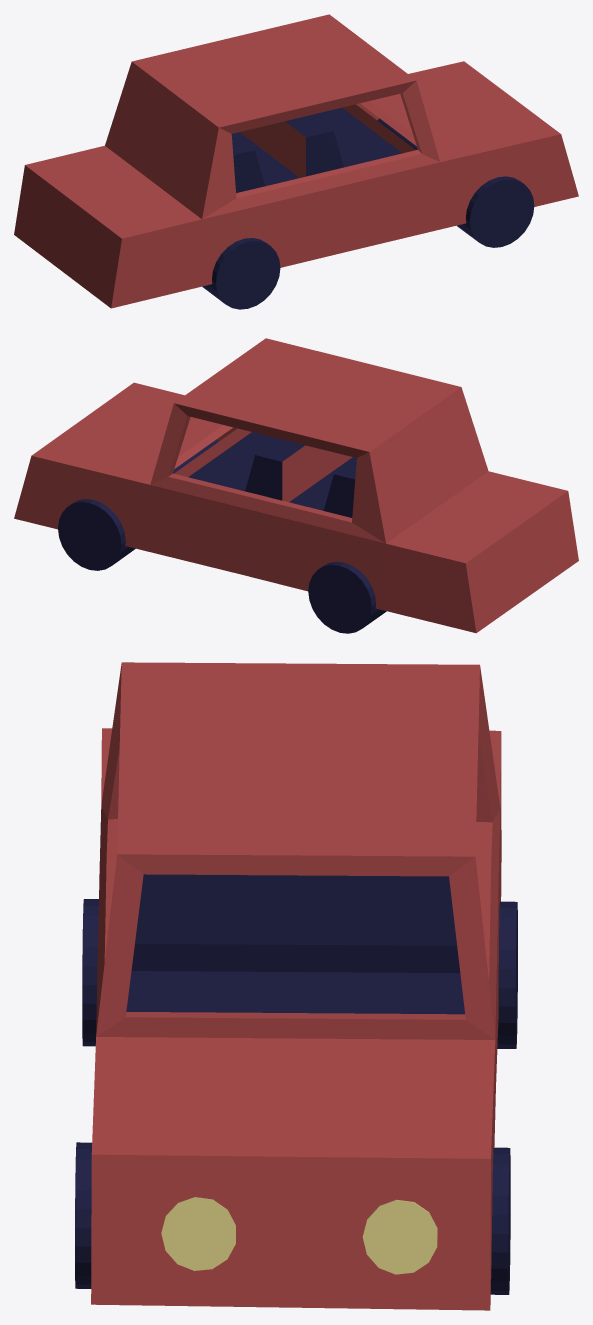
Rendered from red_car.fbx.
3 views of the same model, one above another, from view 1: azimuth 30°, elevation 25°; view 2: azimuth 150°, elevation 25°; view 3: azimuth 270°, elevation 25° (orthographic). The views are drawn at different scales.
Visible parts, largest first — view 1: yellow_car.002; view 2: yellow_car.002; view 3: yellow_car.002.
Boxes of the visible parts, left/top/right/bottom form: yellow_car.002: left=14, top=14, right=578, bottom=309; yellow_car.002: left=14, top=338, right=578, bottom=633; yellow_car.002: left=75, top=662, right=517, bottom=1310.
Bounding box in the file's own units: 209 × 76.38 × 85.73.
